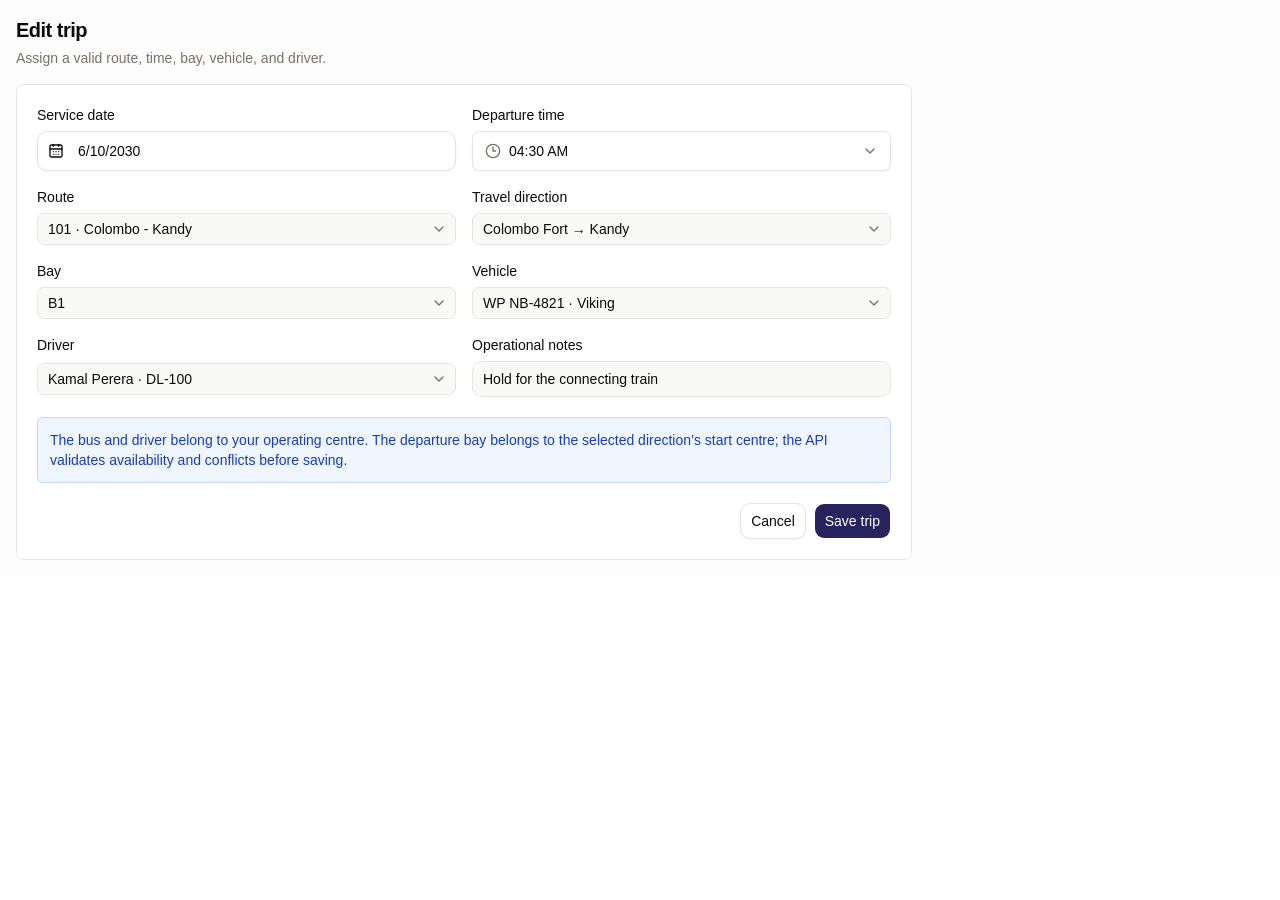
it: TripFormPage: edit › shows every conflict the API reports (vehicle, driver, bay) when the trip clashes
Check: the heading "Edit trip" is shown, box [16,19,87,41]
Click the button "Save trip": [852, 521] box [814,503,891,539]
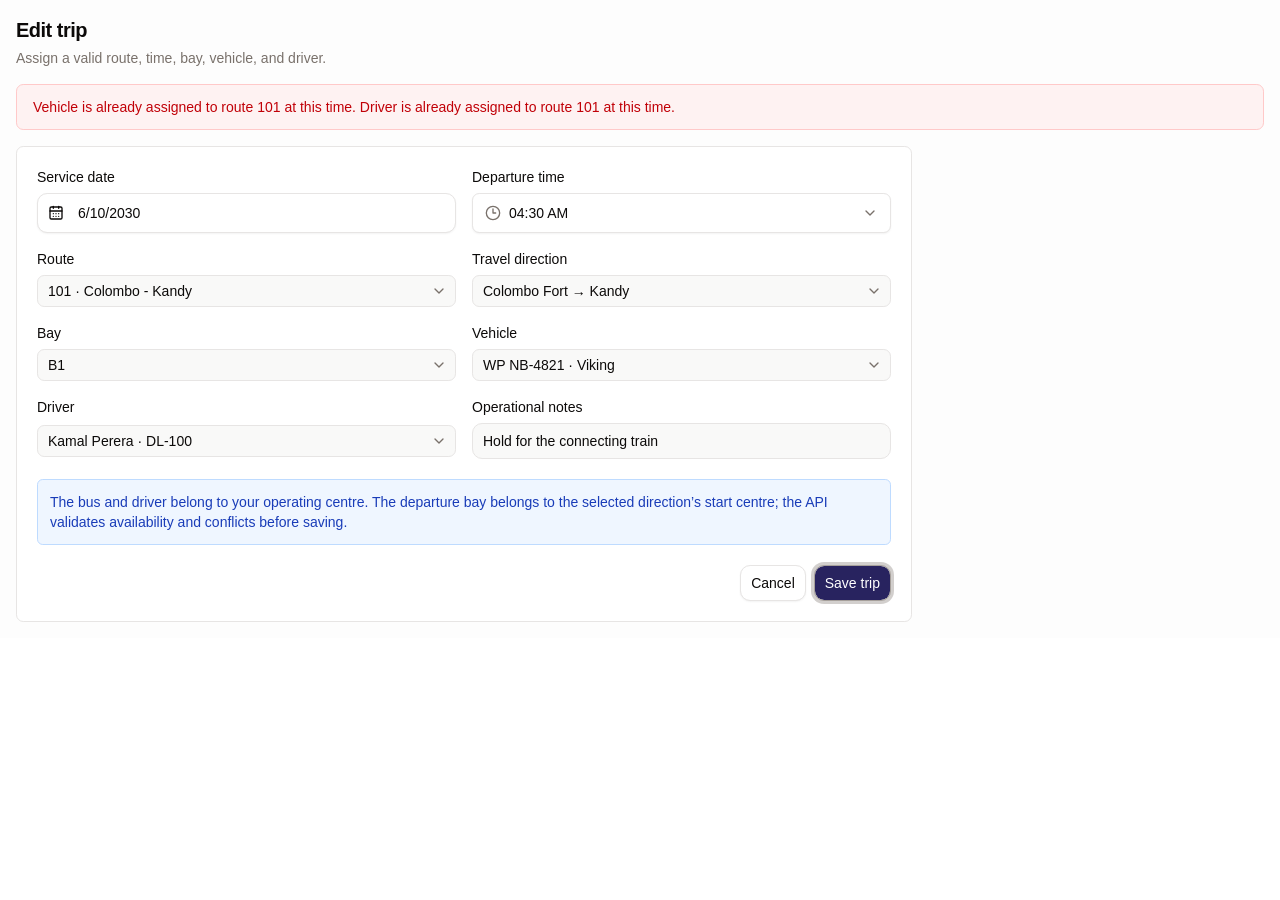
Check: the text "Driver is already assigned to route 101 at this time." is shown, box [33,99,675,115]
